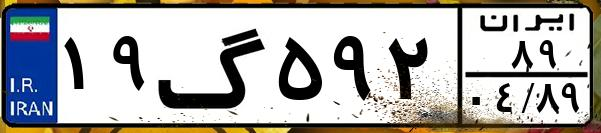0: (470, 70, 495, 125)
1: (57, 26, 110, 100)
2: (385, 28, 445, 110)
4: (495, 70, 520, 125)
5: (270, 28, 330, 110)
8: (508, 27, 537, 80), (535, 70, 560, 125)
9: (330, 28, 385, 110), (110, 28, 156, 98), (560, 70, 590, 125), (537, 27, 568, 80)
گ: (156, 12, 270, 120)
